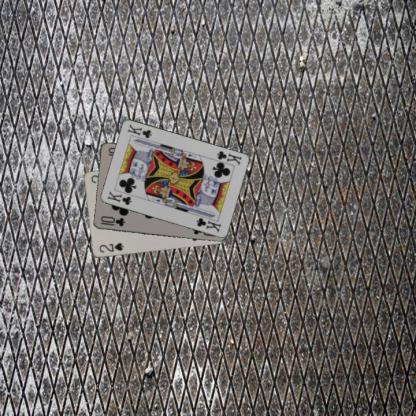10c: (98, 213, 126, 228)
2s: (96, 240, 125, 255)
Kc: (214, 148, 243, 166), (104, 189, 133, 206)
